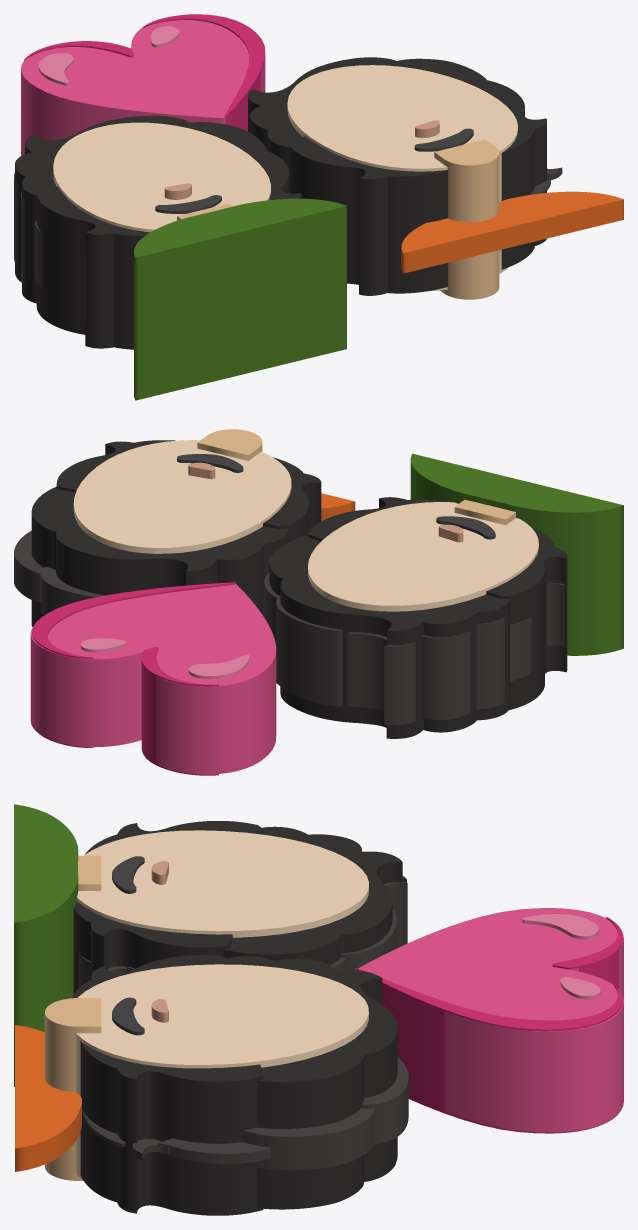
The model's file is emoji_u1f491_1f3fb.glb.
The picture shows the model from 3 angles, top to bottom: view 1: azimuth 30°, elevation 25°; view 2: azimuth 150°, elevation 25°; view 3: azimuth 270°, elevation 25°; orthographic projection. The views are drawn at different scales.
Parts seen in each view (by area): view 1: emoji_u1f491_1f3fb; view 2: emoji_u1f491_1f3fb; view 3: emoji_u1f491_1f3fb.
Part boxes in pixels (x1,y1,x2,y2): emoji_u1f491_1f3fb: (14,14,623,400); emoji_u1f491_1f3fb: (14,429,623,775); emoji_u1f491_1f3fb: (14,804,623,1215).
Size of the model in its own units: 0.0351 by 0.0098 by 0.033.
